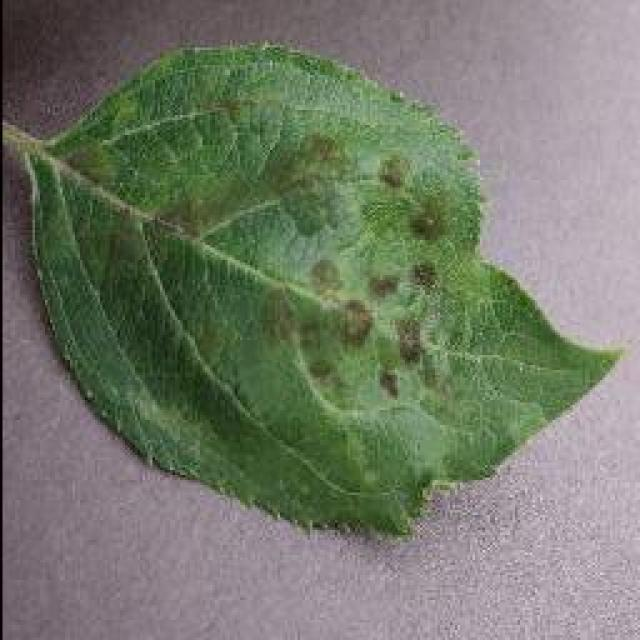apple scab disease: (2, 38, 622, 542)
